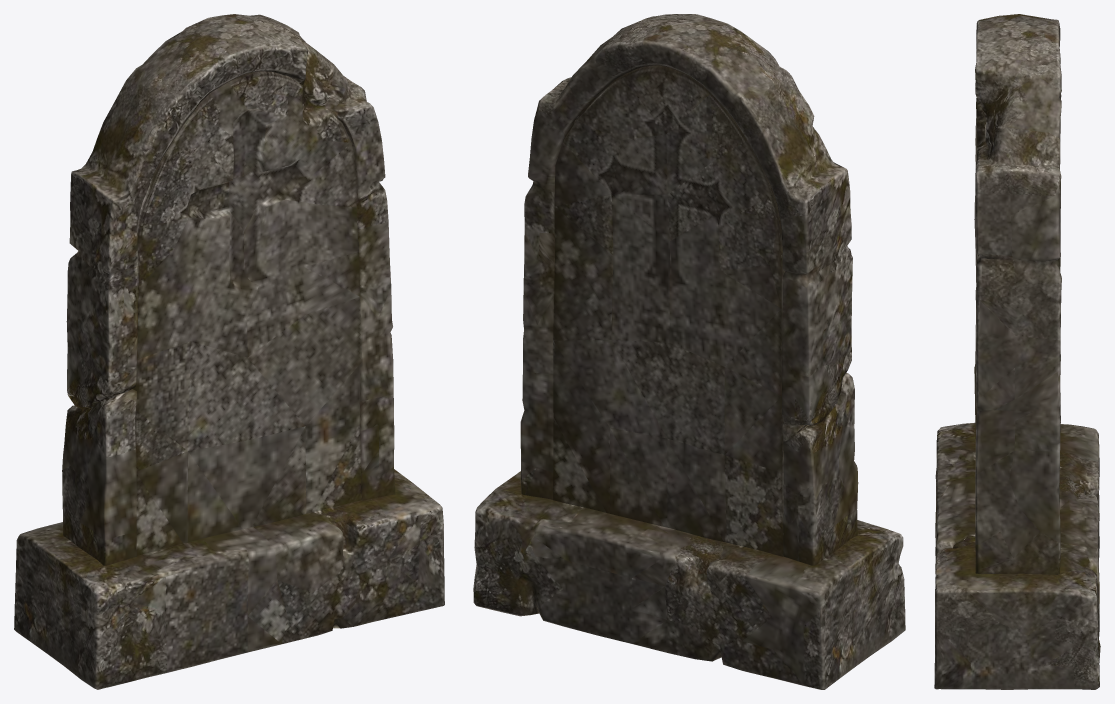
Rendered from h_gravestone.glb.
3 renders of one model, left to right at view 1: azimuth 30°, elevation 25°; view 2: azimuth 150°, elevation 25°; view 3: azimuth 270°, elevation 25°, orthographic.
Visible parts, largest first — view 1: h_gravestone; view 2: h_gravestone; view 3: h_gravestone.
Part boxes in pixels (x1,y1,x2,y2): h_gravestone: (14,14,444,689); h_gravestone: (473,14,905,689); h_gravestone: (934,14,1100,689).
Bounding box in the file's own units: 0.9632 × 1.54 × 0.4001.
1 material, 1 textured.
